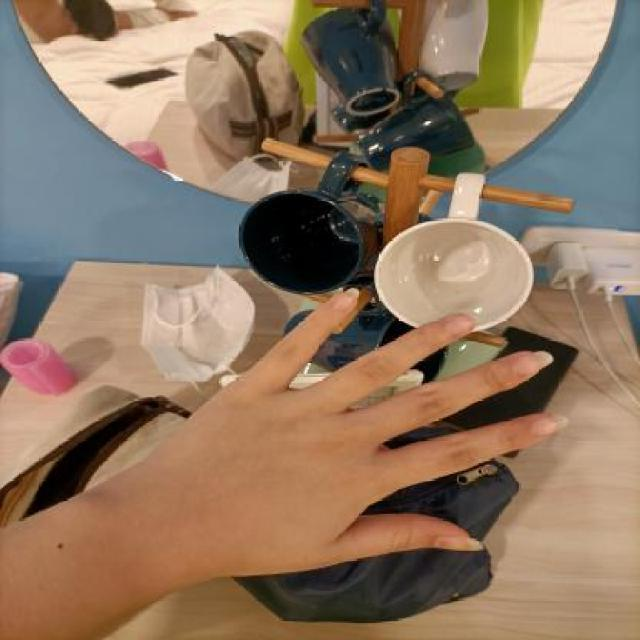bare_hand: (93, 277, 579, 632)
